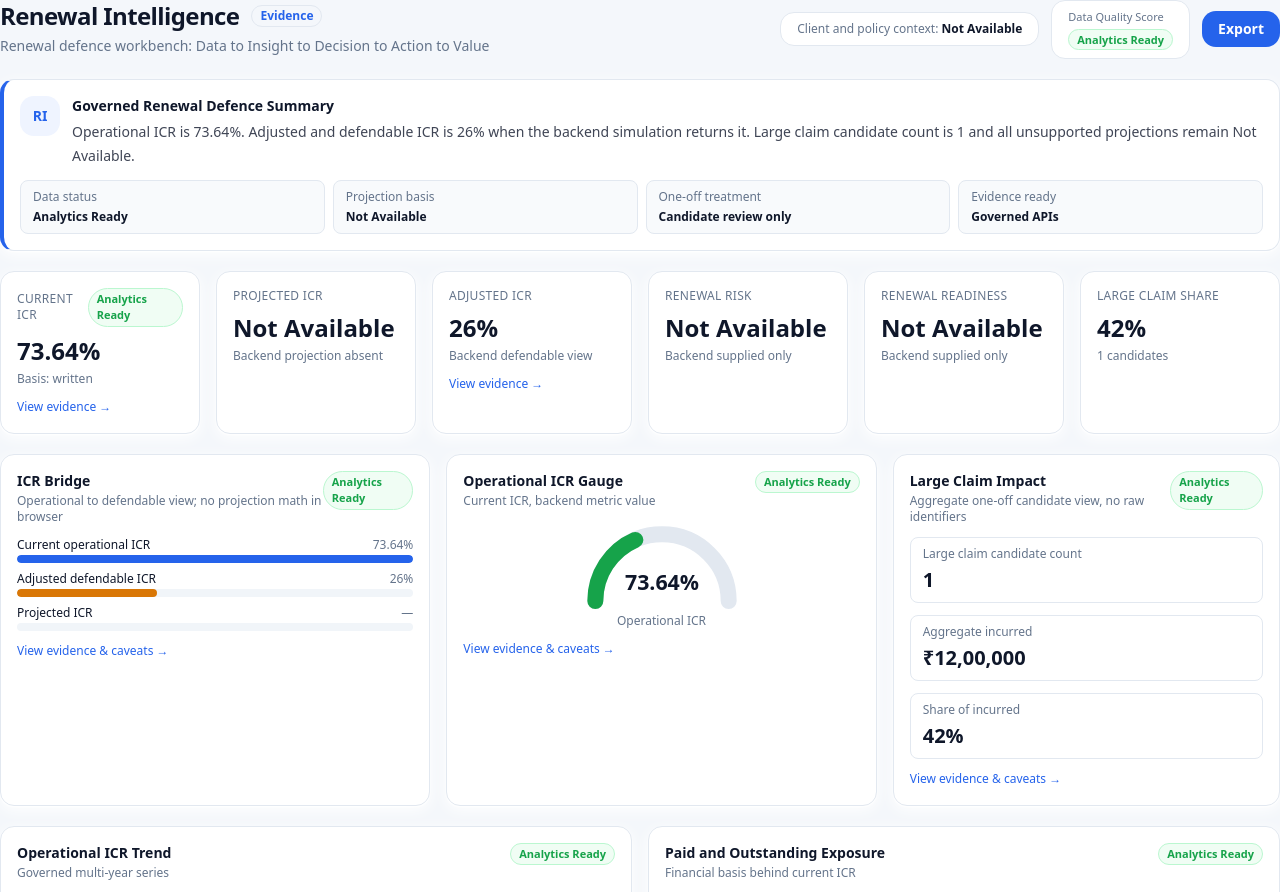
Test: Renewal Intelligence (API-driven) › evidence drawer opens for a metric
Expected: the element with test id "renewal-kpi-current" shows "73.64%", [17, 334, 100, 366]
Click the button "View evidence →" below "Basis: written". click: x=64, y=406
box: [17, 398, 111, 414]
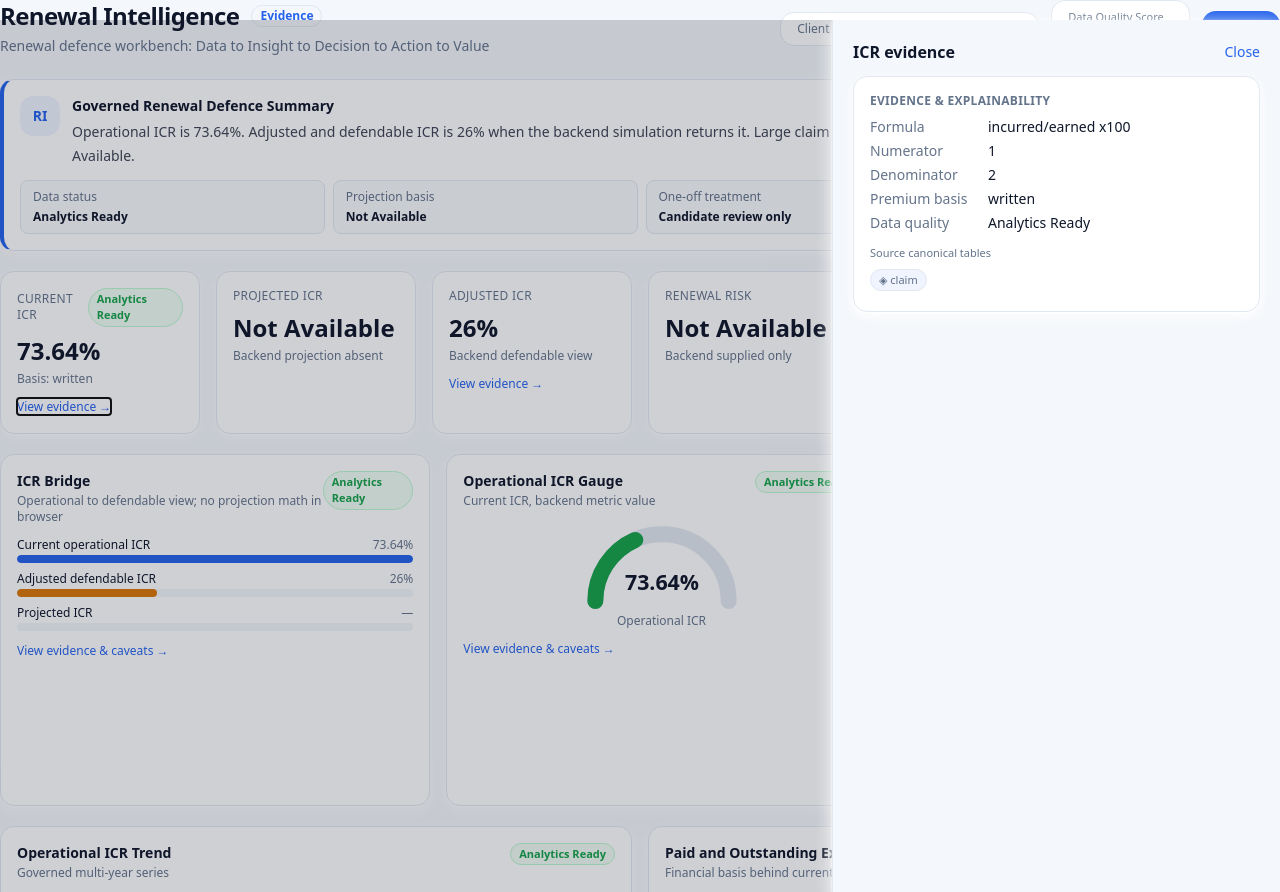
Expected: the element with test id "evidence-drawer" shows "incurred/earned x100", [988, 117, 1130, 136]
